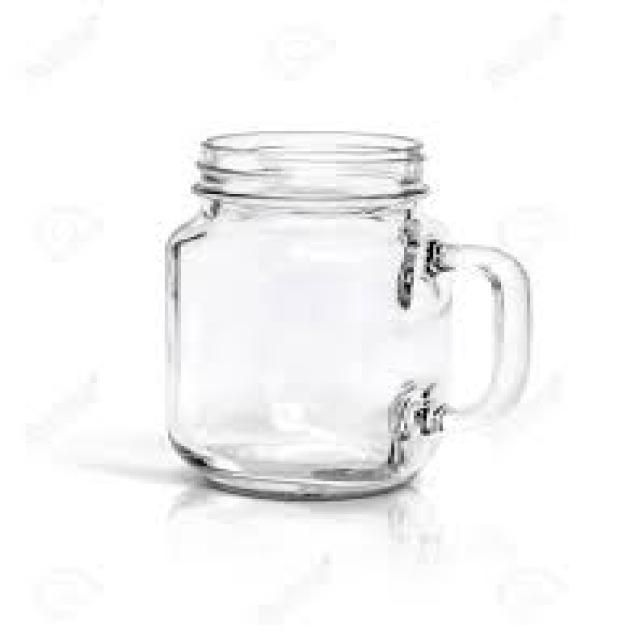glass: (161, 131, 527, 499)
